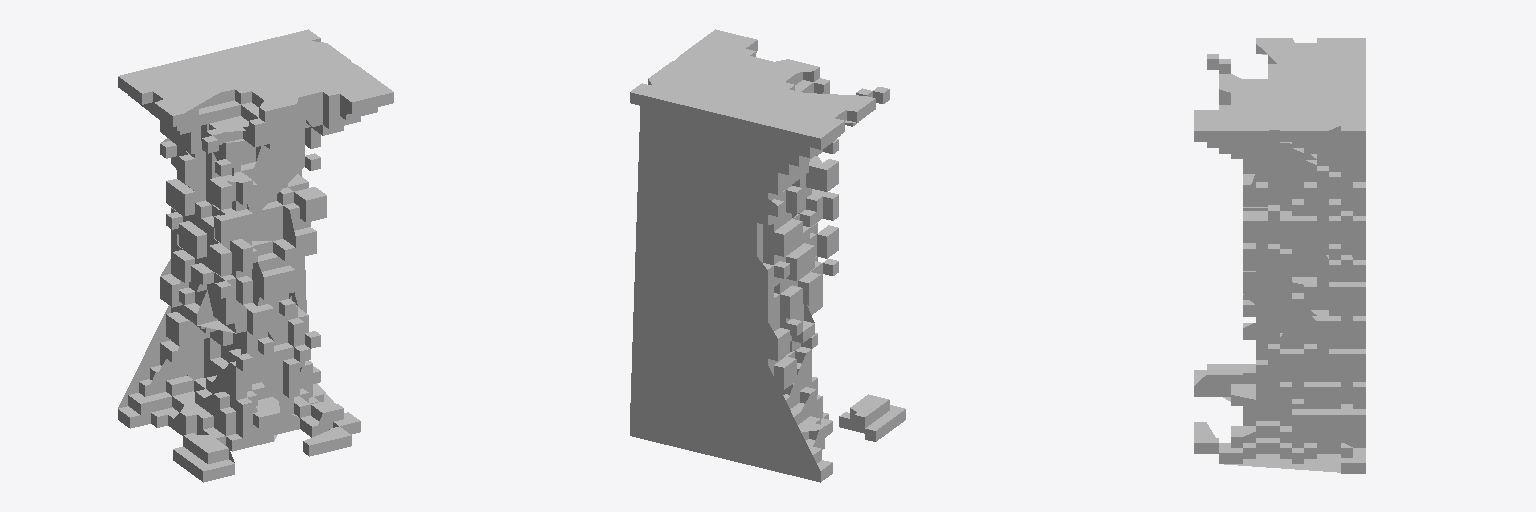
Rendered from Pillar_Ext_Bricks_Broken.obj.
3 views of the same model, side by side, from view 1: azimuth 30°, elevation 25°; view 2: azimuth 150°, elevation 25°; view 3: azimuth 270°, elevation 25° (orthographic).
Parts seen in each view (by area): view 1: Pillar_Ext_Bricks_Broken_Pillar_Ext_Bricks_Brocken.001; view 2: Pillar_Ext_Bricks_Broken_Pillar_Ext_Bricks_Brocken.001; view 3: Pillar_Ext_Bricks_Broken_Pillar_Ext_Bricks_Brocken.001.
Boxes of the visible parts, <box> form: Pillar_Ext_Bricks_Broken_Pillar_Ext_Bricks_Brocken.001: <box>118,29,393,482</box>; Pillar_Ext_Bricks_Broken_Pillar_Ext_Bricks_Brocken.001: <box>630,29,905,482</box>; Pillar_Ext_Bricks_Broken_Pillar_Ext_Bricks_Brocken.001: <box>1194,38,1365,473</box>.
Bounding box in the file's own units: 1.8 × 3.1 × 1.4.